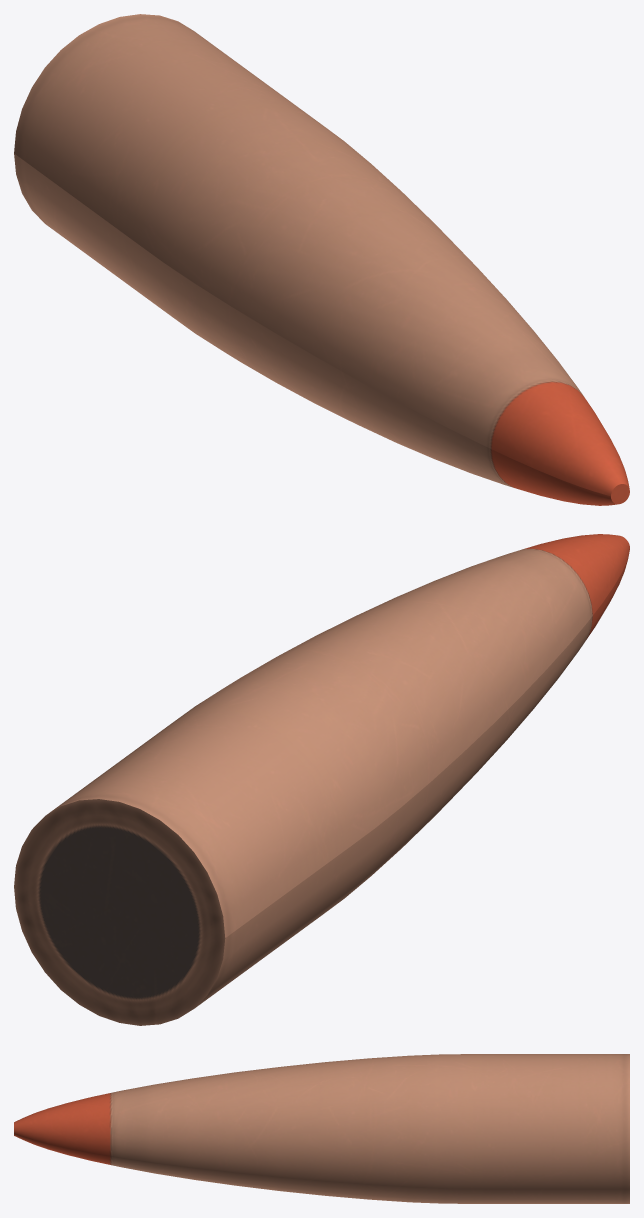
File: Bullet.fbx
The picture shows the model from 3 angles, top to bottom: view 1: azimuth 30°, elevation 25°; view 2: azimuth 150°, elevation 25°; view 3: azimuth 270°, elevation 25°; orthographic projection. The views are drawn at different scales.
Parts seen in each view (by area): view 1: bullet; view 2: bullet; view 3: bullet.
Boxes of the visible parts, <box> form: bullet: <box>14,14,629,505</box>; bullet: <box>14,534,629,1025</box>; bullet: <box>14,1054,629,1203</box>.
Size of the model in its own units: 56 by 230 by 56.
1 material, 1 textured.
